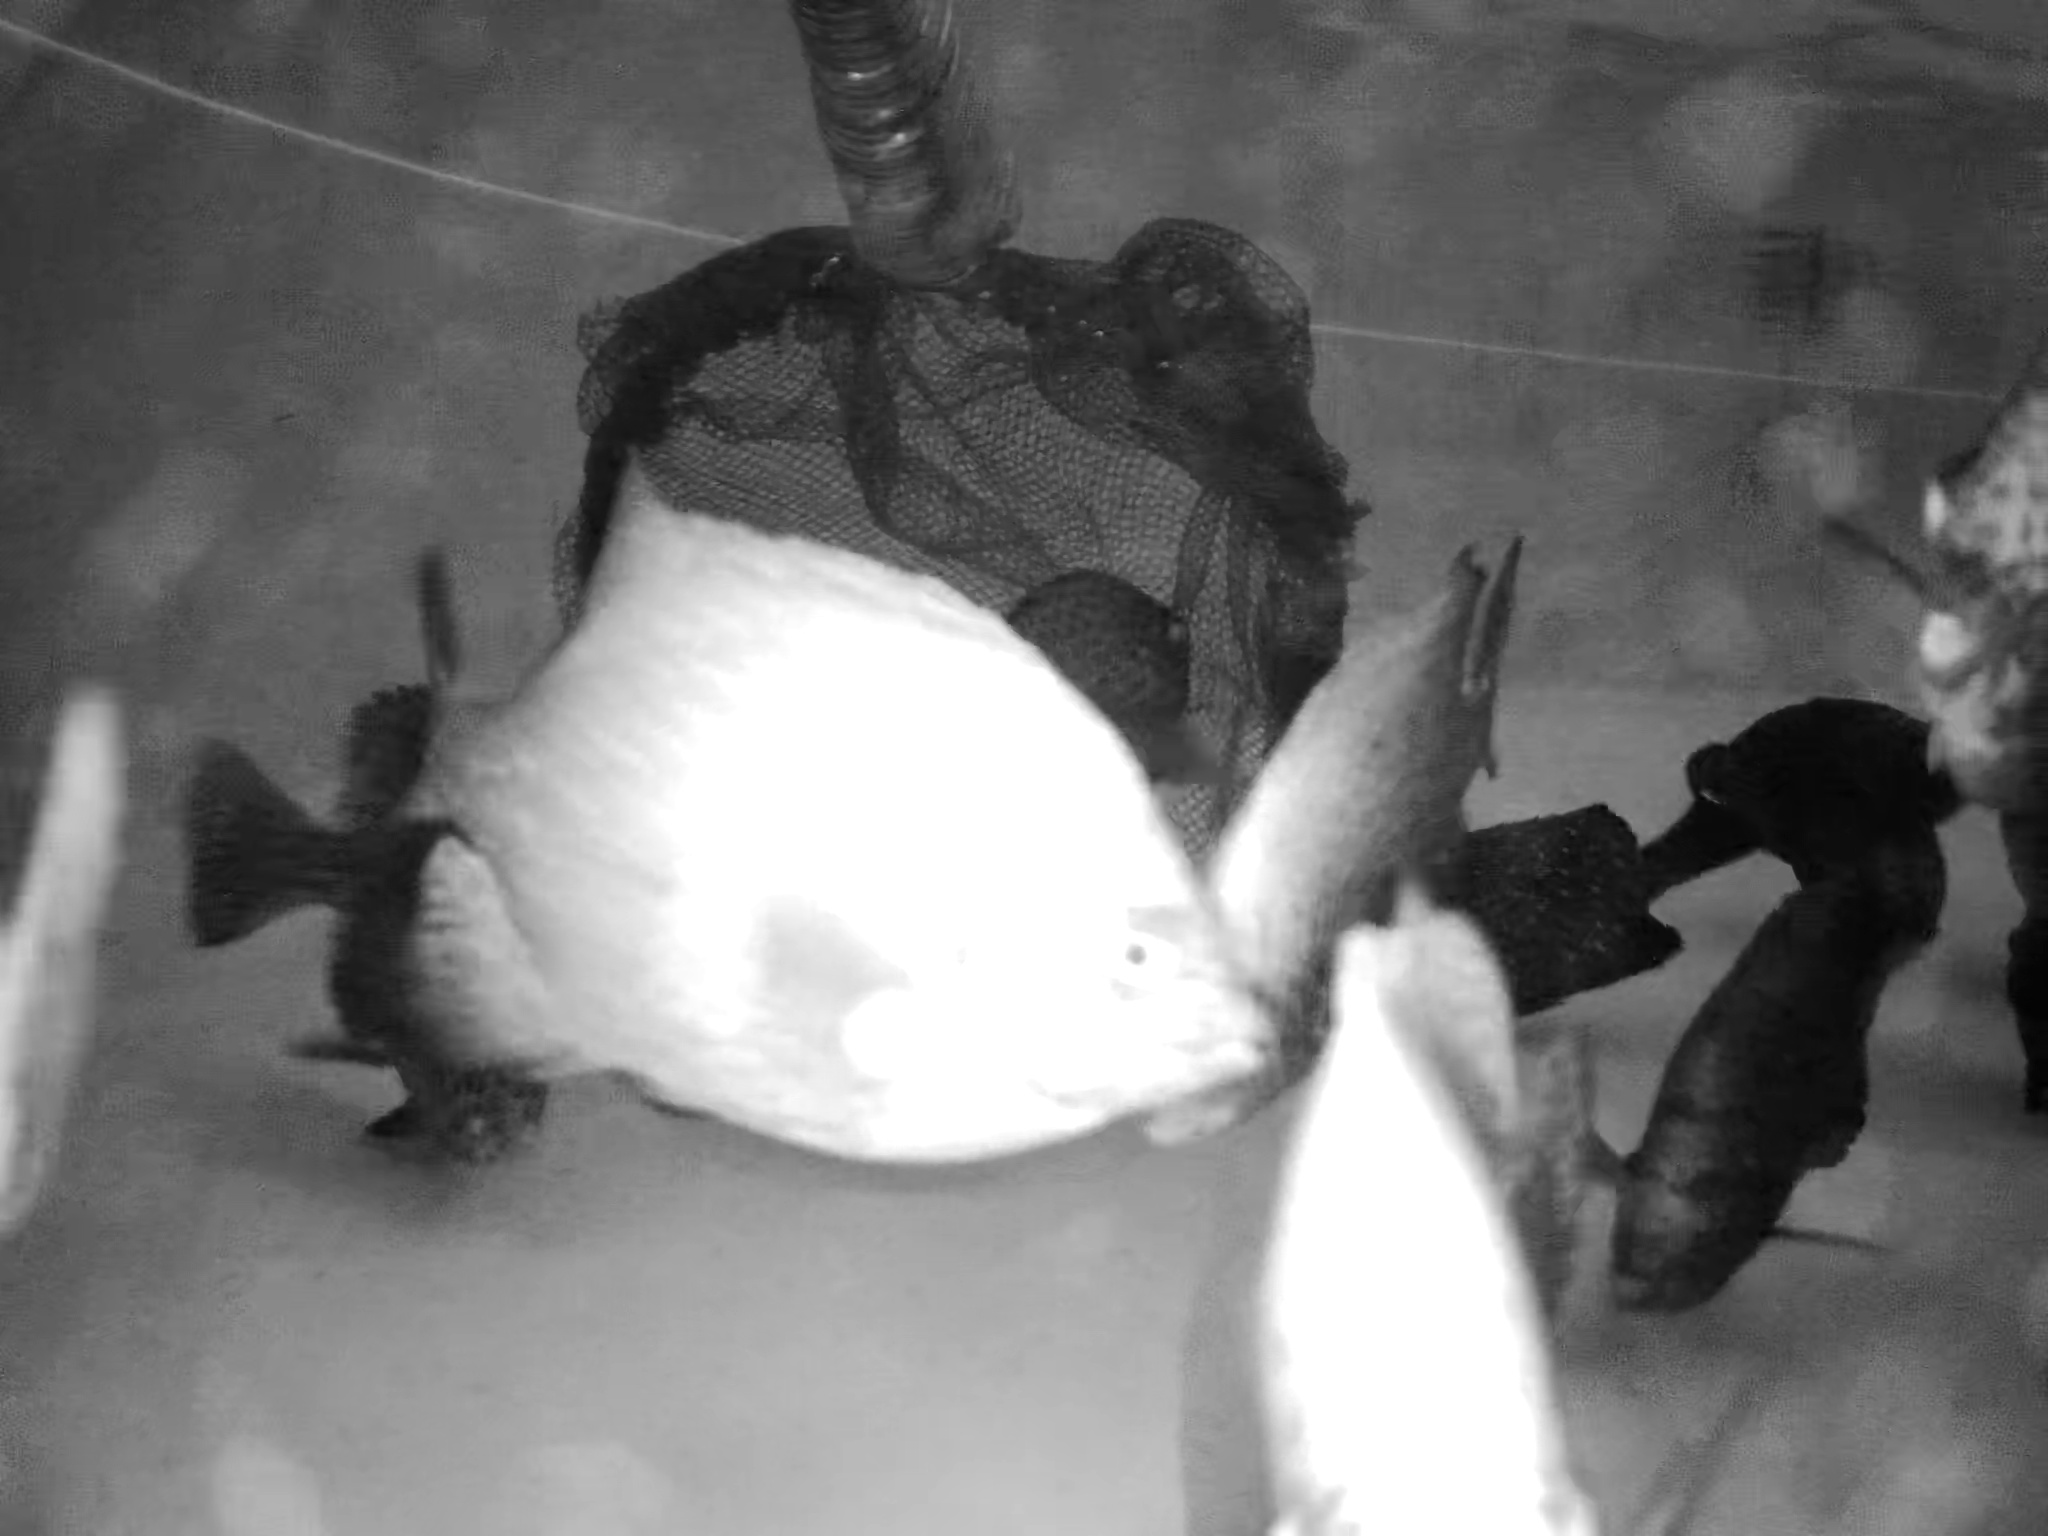fish: (161, 466, 1288, 1171), (1235, 902, 1555, 1536), (1172, 531, 1513, 1049), (1588, 823, 1954, 1281), (2, 673, 144, 1255), (1895, 382, 2048, 860), (1001, 542, 1230, 795)
